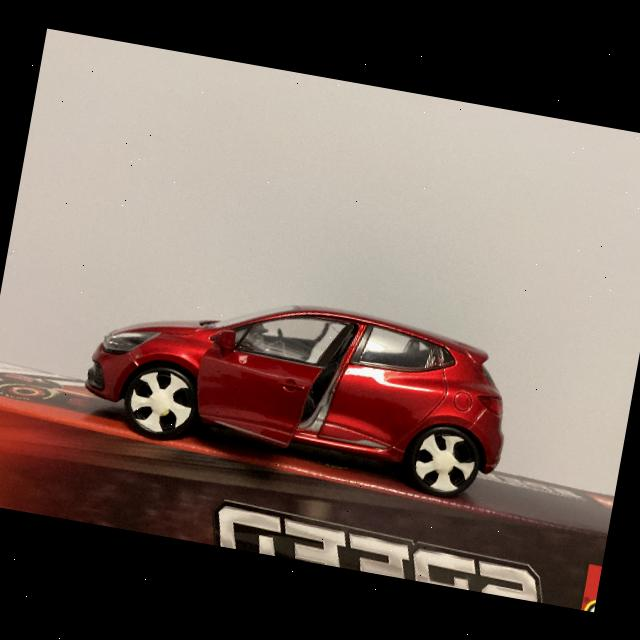Yanlis_Jant: (125, 365, 197, 438), (412, 430, 478, 493)
